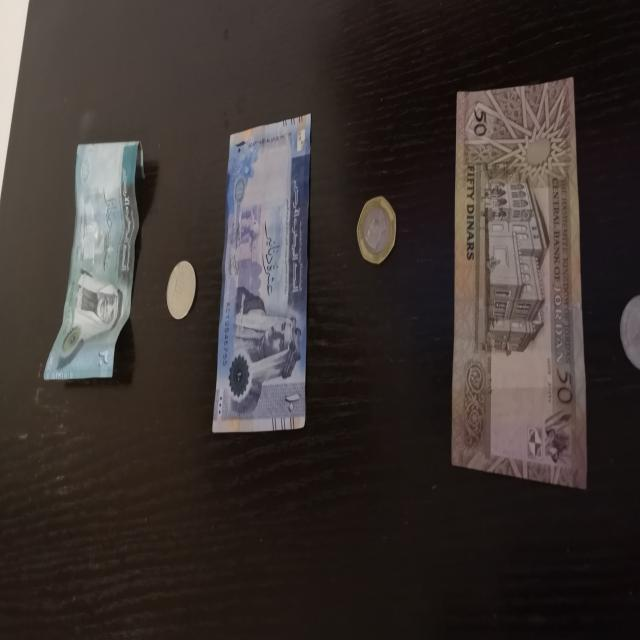10-coins: (167, 261, 196, 319)
10-dinar: (212, 114, 311, 432)
20-dinar: (44, 141, 145, 380)
5-coins: (620, 295, 640, 370)
50-coins: (356, 197, 396, 264)
50-dinar: (451, 77, 589, 489)
